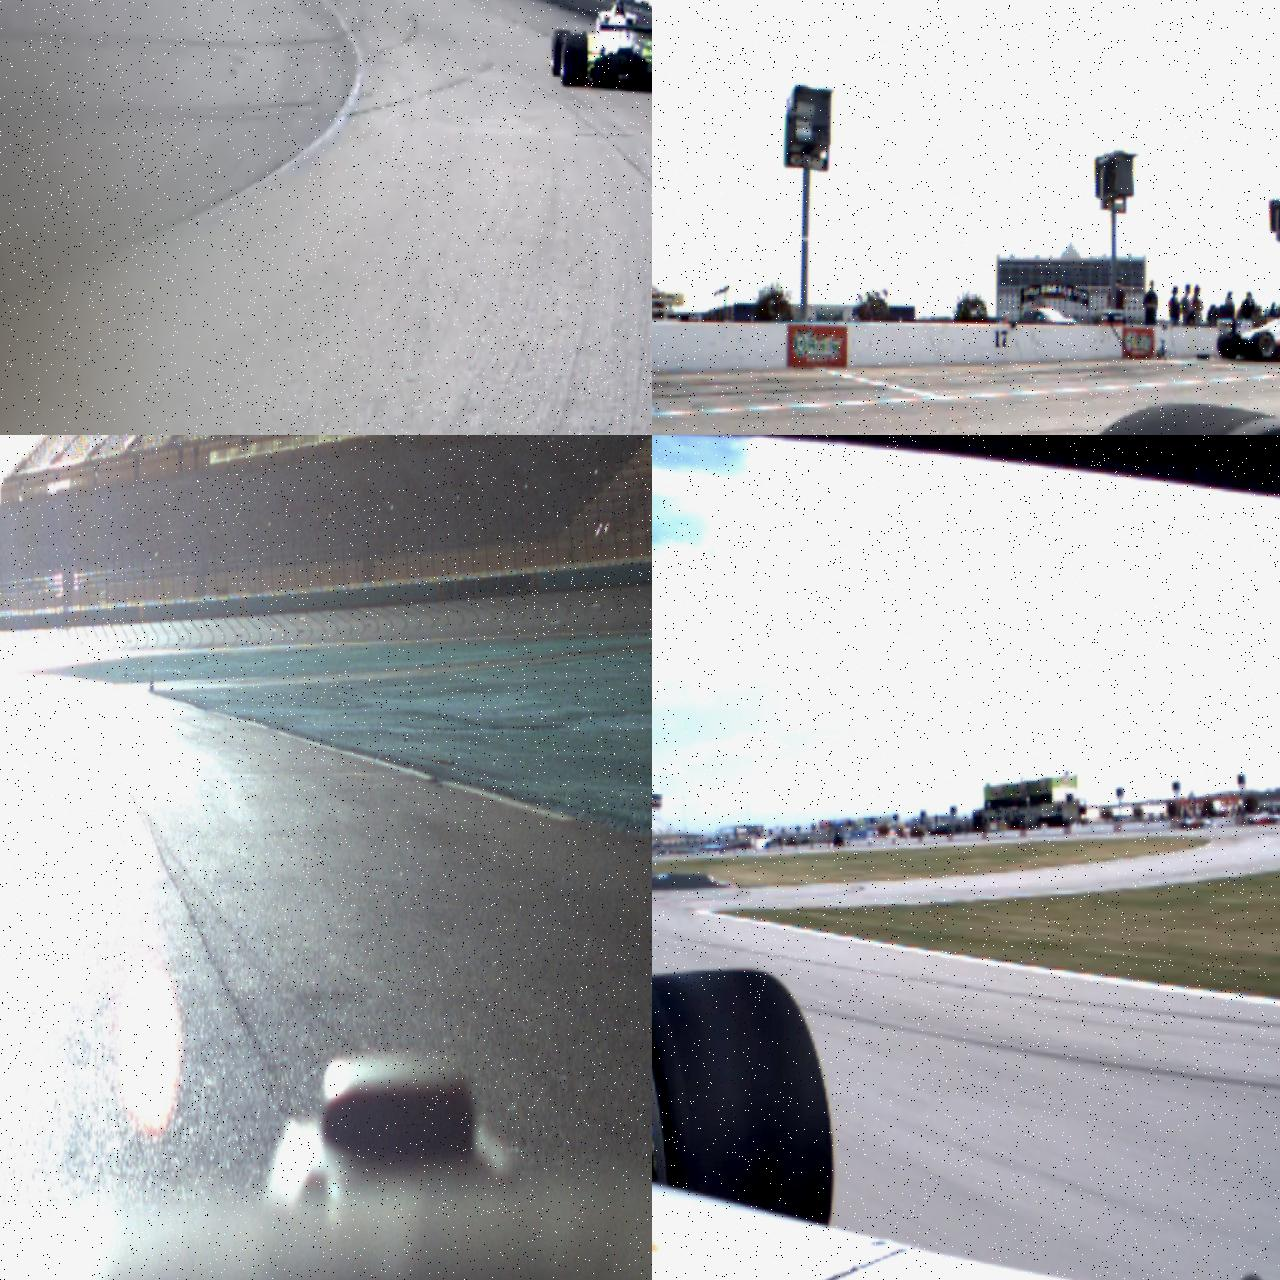AV: (550, 0, 652, 95), (1216, 304, 1280, 364)
Wheel: (652, 965, 838, 1228), (561, 34, 588, 88), (551, 29, 571, 78), (1249, 330, 1276, 362), (1216, 331, 1241, 361)
